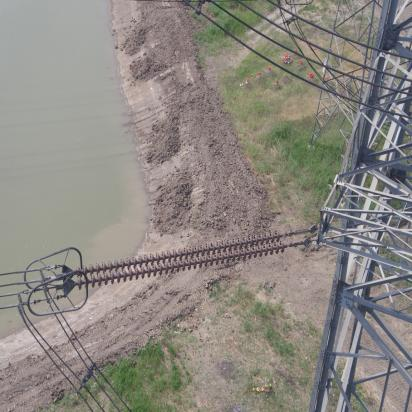insulator: (73, 229, 296, 291)
